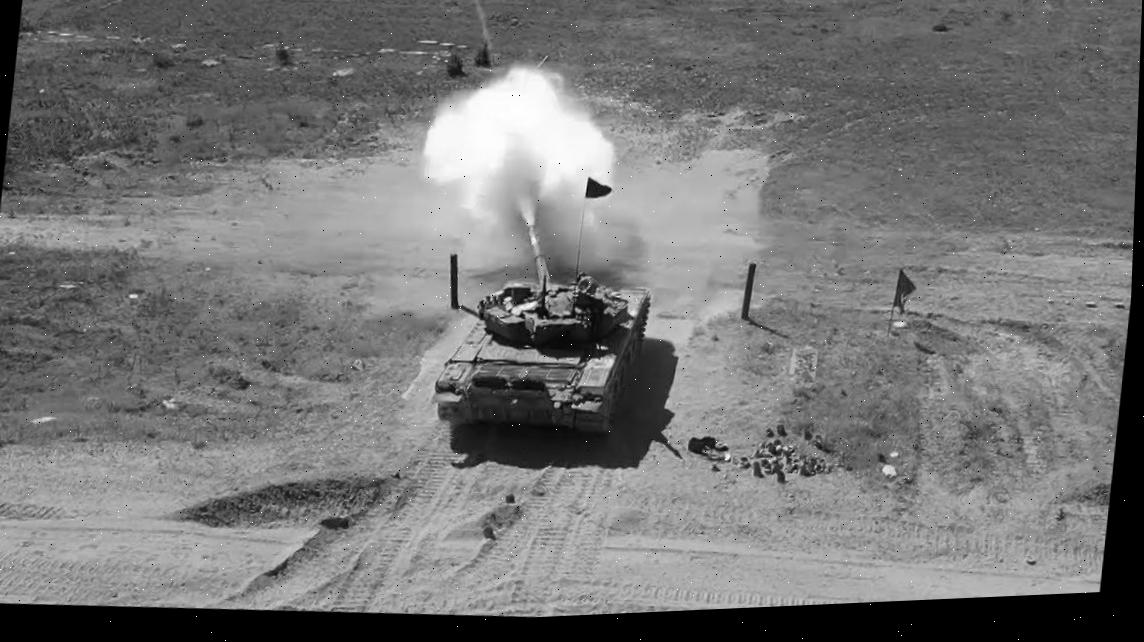tank: (424, 209, 661, 450)
